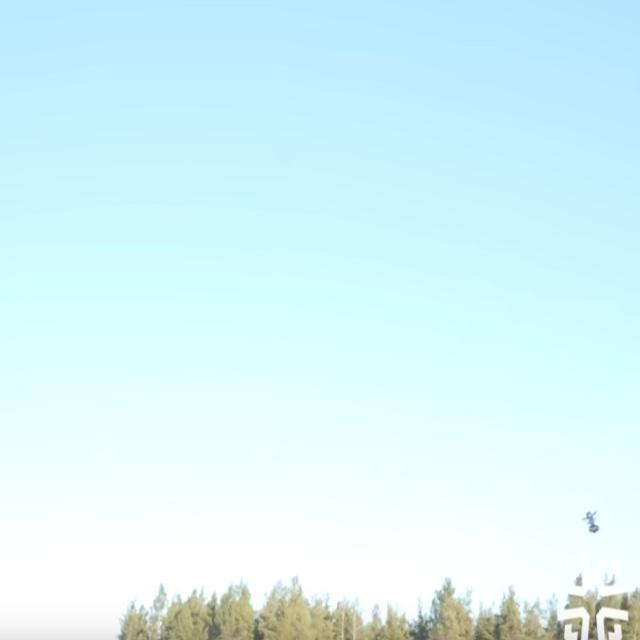drone: (577, 506, 603, 536)
